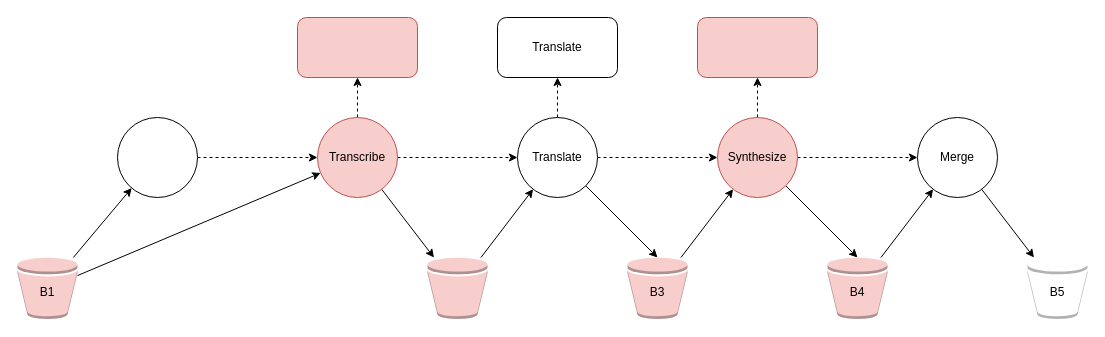
This 1105x337 diagram has some shape labels left out. Here are the shapes that lost their labels. From the top down, the centre of each, then its label:
At point (357, 47): "Speech To Text".
At point (757, 47): "Text To Soeech".
At point (157, 157): "Collect".
At point (457, 287): "B2".
